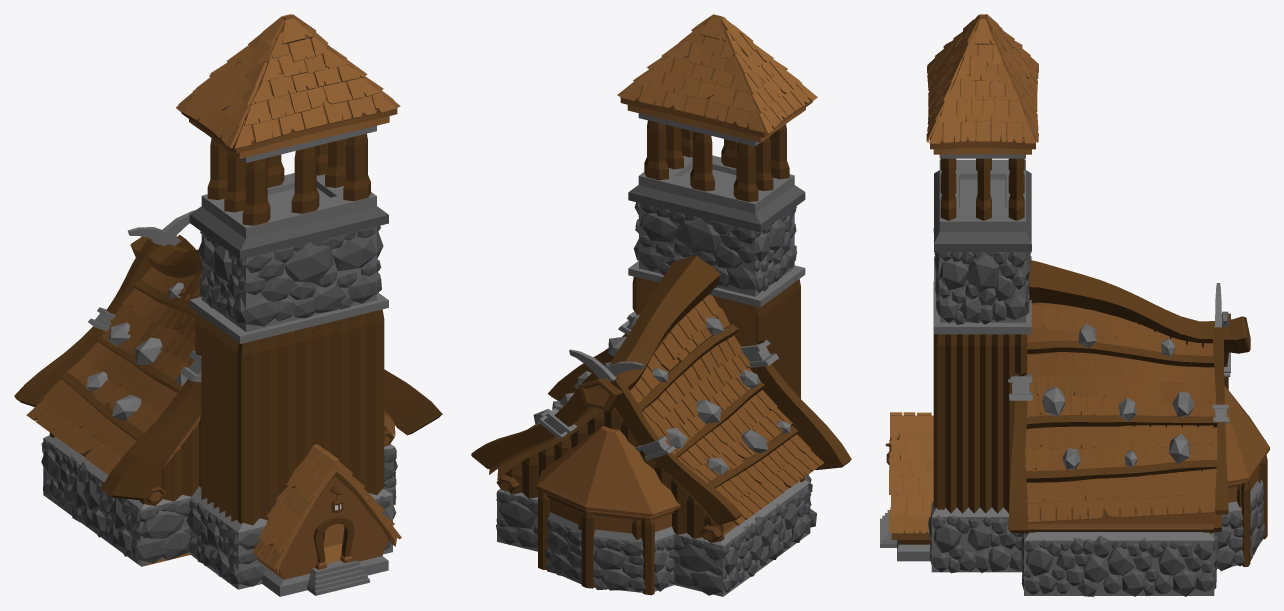
The model's file is B_Church.fbx.
3 views of the same model, side by side, from view 1: azimuth 30°, elevation 25°; view 2: azimuth 150°, elevation 25°; view 3: azimuth 270°, elevation 25° (orthographic). The views are drawn at different scales.
Visible parts, largest first — view 1: B_Church; view 2: B_Church; view 3: B_Church.
Boxes of the visible parts, bbox=[...] form: B_Church: bbox=[14, 14, 442, 596]; B_Church: bbox=[471, 14, 851, 596]; B_Church: bbox=[880, 14, 1269, 596].
Bounding box in the file's own units: 1100 × 1700 × 1153.
